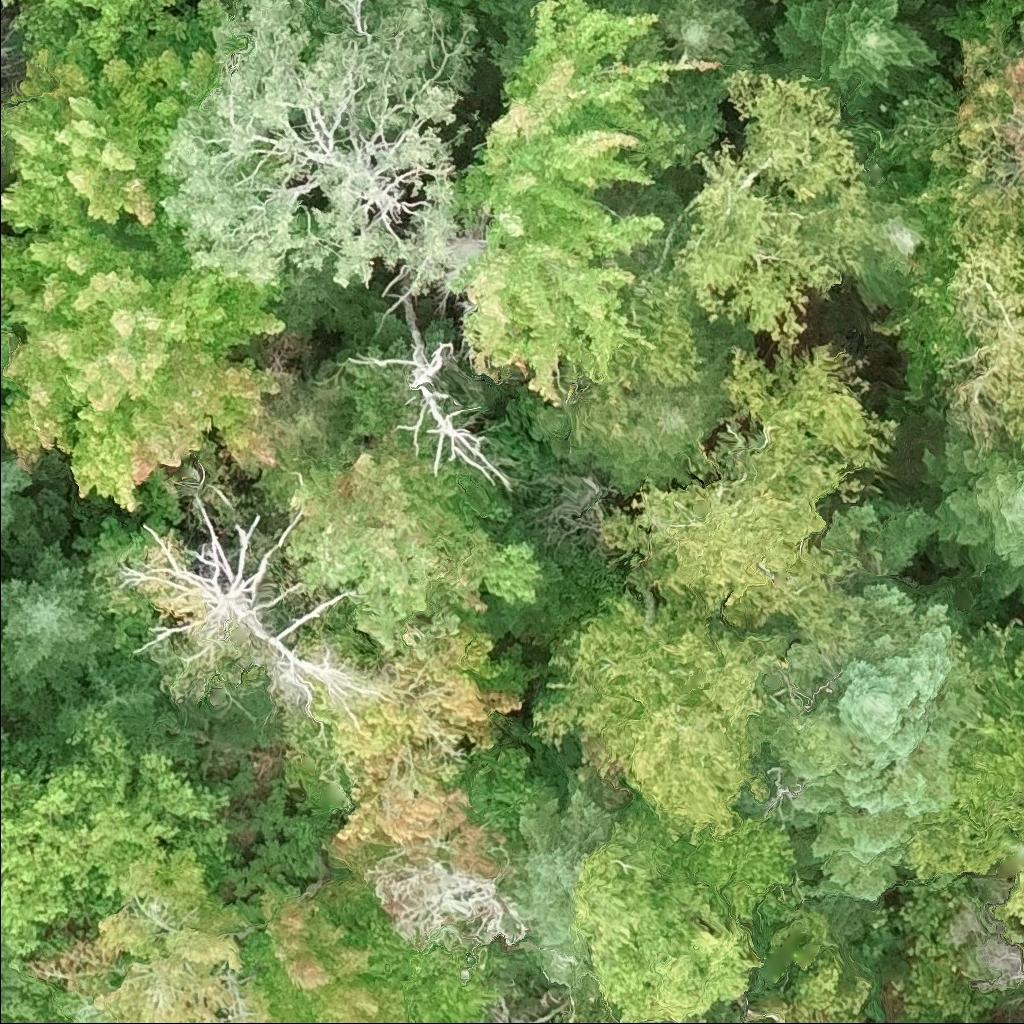crown: (452, 0, 720, 400), (160, 0, 475, 303), (605, 337, 893, 628), (0, 231, 289, 512), (108, 491, 401, 733), (0, 703, 229, 963), (276, 441, 540, 651), (0, 0, 224, 243), (684, 65, 879, 340), (532, 606, 762, 835), (578, 802, 797, 1019), (331, 628, 515, 883), (260, 871, 530, 1023), (342, 299, 515, 502), (888, 25, 1023, 241), (915, 622, 1023, 877), (575, 249, 705, 442), (841, 579, 962, 762), (773, 0, 935, 122), (521, 789, 621, 983), (0, 545, 123, 700), (102, 848, 251, 966), (949, 225, 1023, 452), (366, 856, 532, 952), (935, 444, 1023, 612), (87, 935, 254, 1023), (593, 0, 765, 77), (3, 0, 181, 66), (853, 186, 936, 307), (746, 961, 874, 1023), (636, 371, 723, 459), (0, 445, 39, 548), (470, 997, 575, 1023), (0, 639, 20, 712), (1007, 851, 1023, 926), (0, 22, 10, 94), (896, 1011, 949, 1023), (436, 0, 485, 3)
